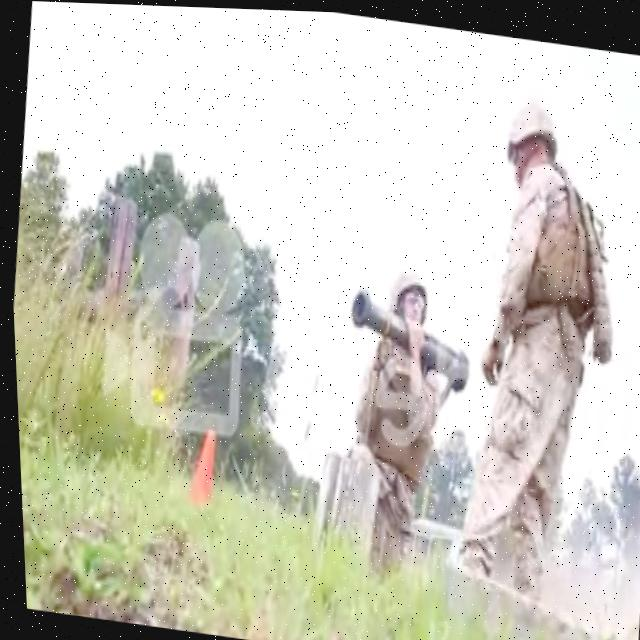rocket: (339, 276, 478, 389)
